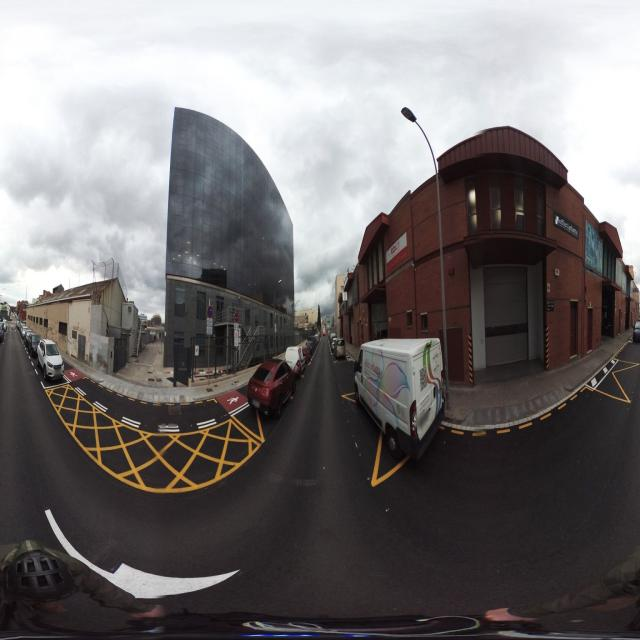forb_stopping: (207, 306, 213, 318)
forb_waiting: (234, 313, 239, 323)
